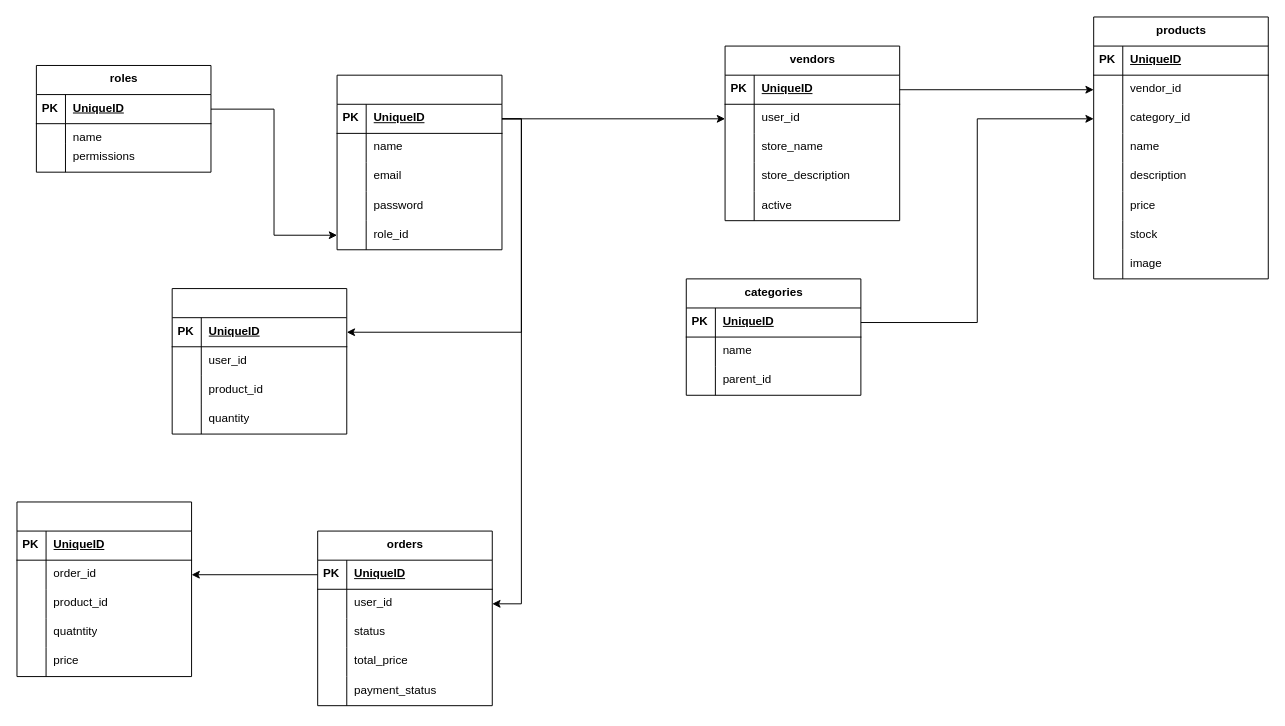
The diagram is 1285 pixels wide and 726 high, and some of its shapes have lost their labels. Here are the shapes that lost their labels. From the top down, the box of each, then its label:
(336, 74, 502, 250): users
(171, 288, 347, 434): carts
(16, 501, 192, 677): order_items
